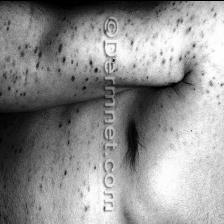Non-Cancerous Skin Condition: (68, 58, 100, 96), (207, 75, 217, 89), (56, 42, 64, 54), (66, 116, 72, 126), (191, 41, 197, 48)
